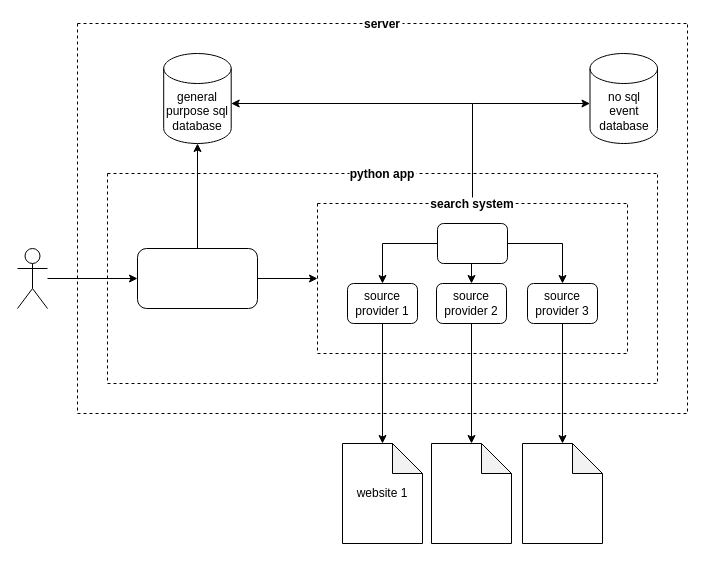
This 705x561 diagram has some shape labels left out. Each missing label, with the centre of its shape:
flask server: the point at 197,278
manager: the point at 472,243
website 2: the point at 471,493
website 3: the point at 562,493
